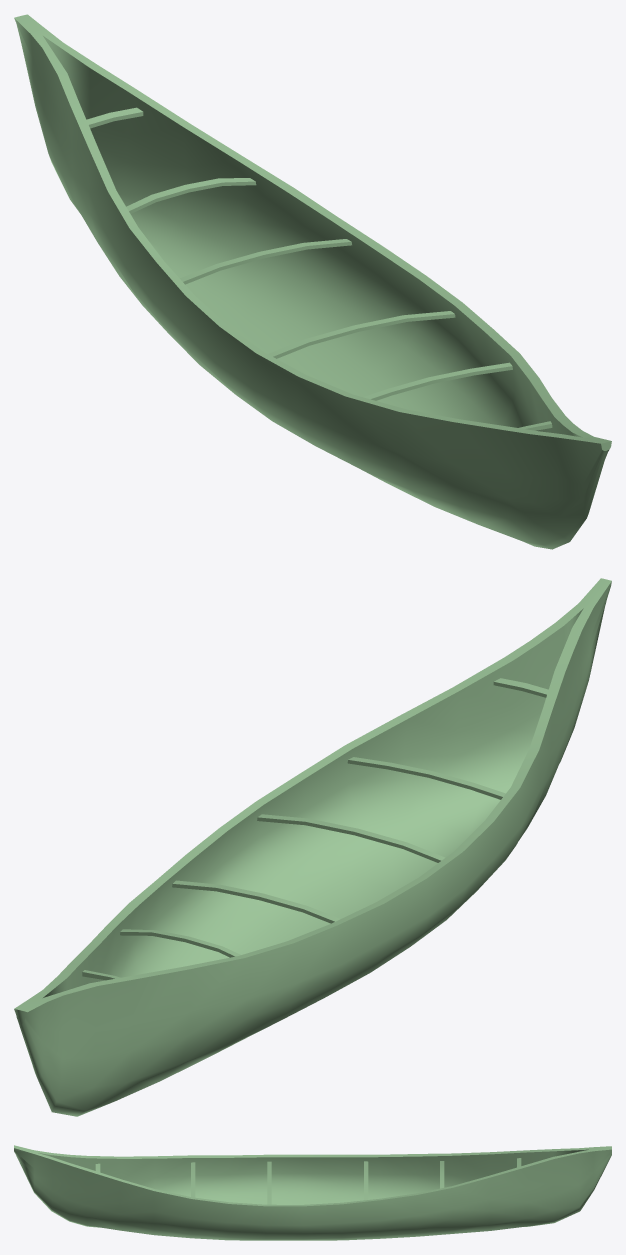
File: Indian kanoe A COL.FBX
The picture shows the model from 3 angles, top to bottom: view 1: azimuth 30°, elevation 25°; view 2: azimuth 150°, elevation 25°; view 3: azimuth 270°, elevation 25°; orthographic projection. The views are drawn at different scales.
Parts seen in each view (by area): view 1: Indian kanoe A Body COL; view 2: Indian kanoe A Body COL; view 3: Indian kanoe A Body COL.
Boxes of the visible parts, x1,y1,x2,y2 form: Indian kanoe A Body COL: (14, 14, 611, 549); Indian kanoe A Body COL: (14, 578, 611, 1116); Indian kanoe A Body COL: (14, 1145, 611, 1240).
Bounding box in the file's own units: 102 × 485 × 74.82.
